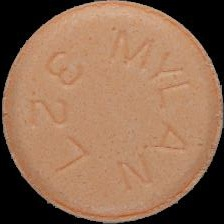0615-2597: (0, 0, 224, 224)
